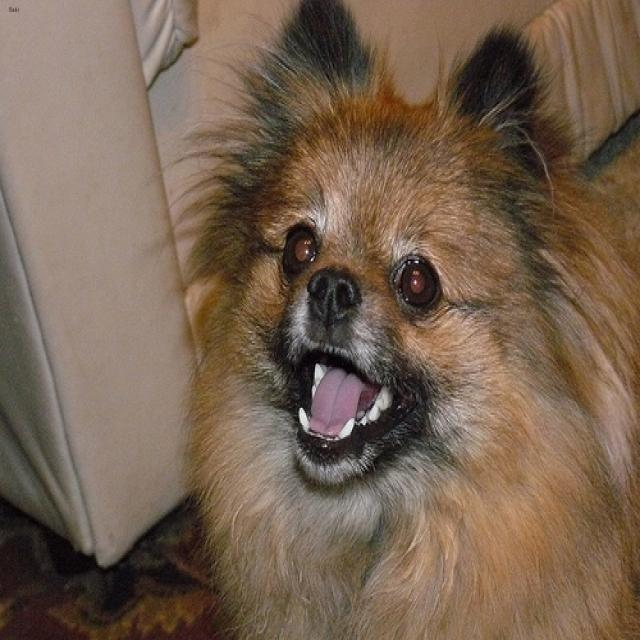dog-pomeranian: (166, 2, 637, 637)
